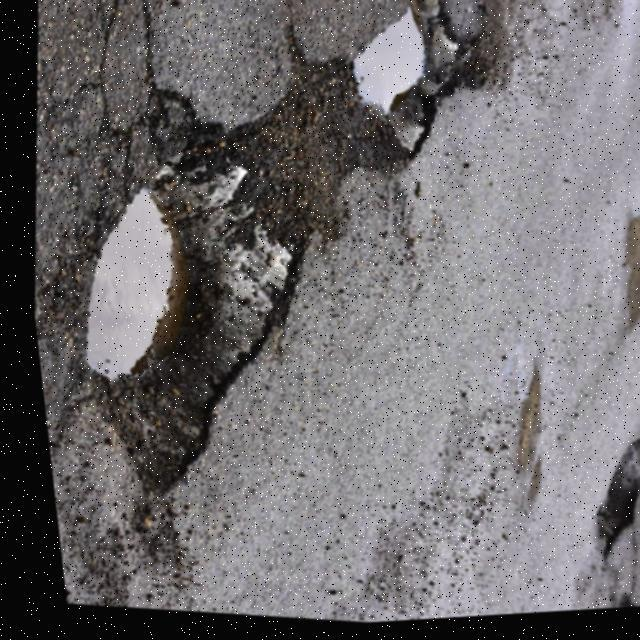pothole: (49, 168, 262, 429), (332, 0, 478, 145), (558, 440, 640, 575), (572, 595, 637, 616)
